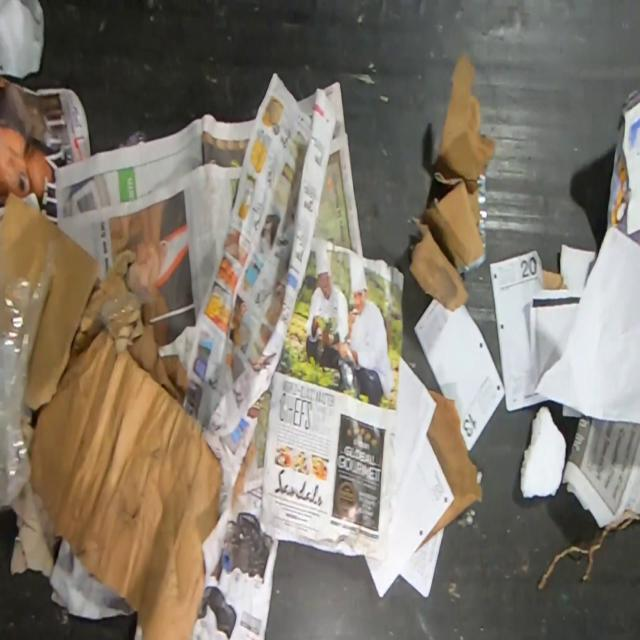cardboard: (0, 194, 223, 639), (408, 52, 494, 312), (416, 388, 482, 550), (606, 86, 640, 247), (542, 268, 568, 290)
soft_plastic: (0, 240, 54, 509), (476, 171, 487, 251)
